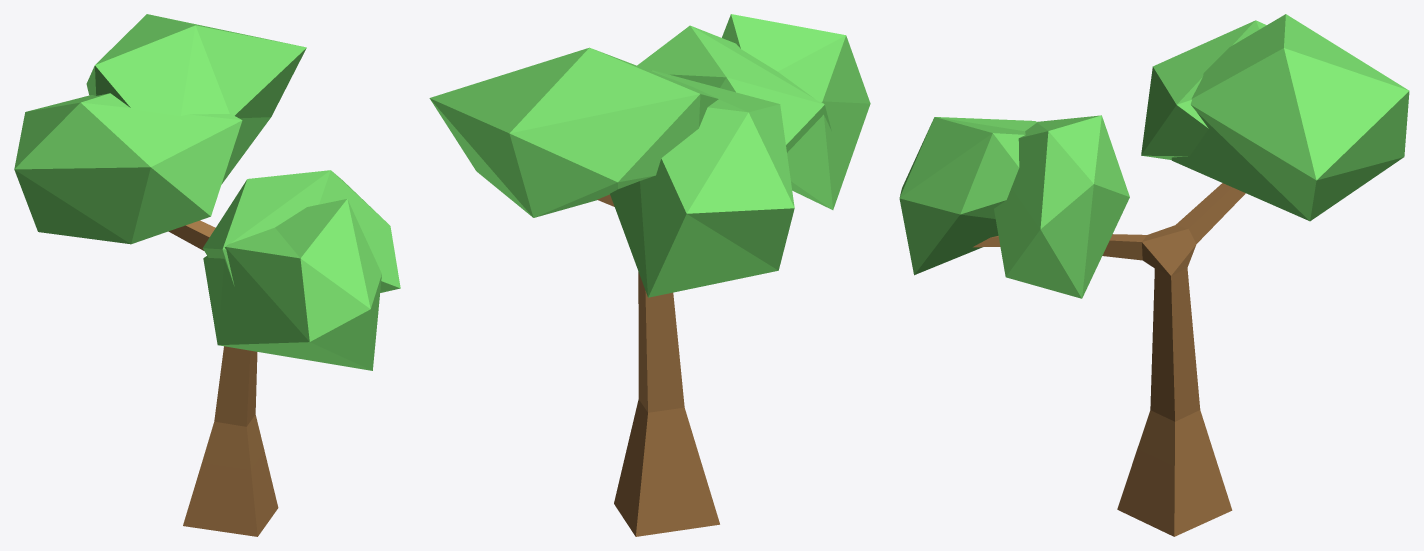
File: tree2.fbx
3 renders of one model, left to right at view 1: azimuth 30°, elevation 25°; view 2: azimuth 150°, elevation 25°; view 3: azimuth 270°, elevation 25°, orthographic. The views are drawn at different scales.
Parts seen in each view (by area): view 1: Icosphere, Tree1; view 2: Icosphere, Tree1; view 3: Icosphere, Tree1.
Boxes of the visible parts, left/top/right/bottom form: Icosphere: left=14, top=14, right=400, bottom=370; Tree1: left=168, top=220, right=278, bottom=536; Icosphere: left=429, top=14, right=870, bottom=297; Tree1: left=597, top=194, right=719, bottom=536; Icosphere: left=899, top=14, right=1409, bottom=298; Tree1: left=973, top=183, right=1245, bottom=536.
Bounding box in the file's own units: 505 × 706 × 689.
